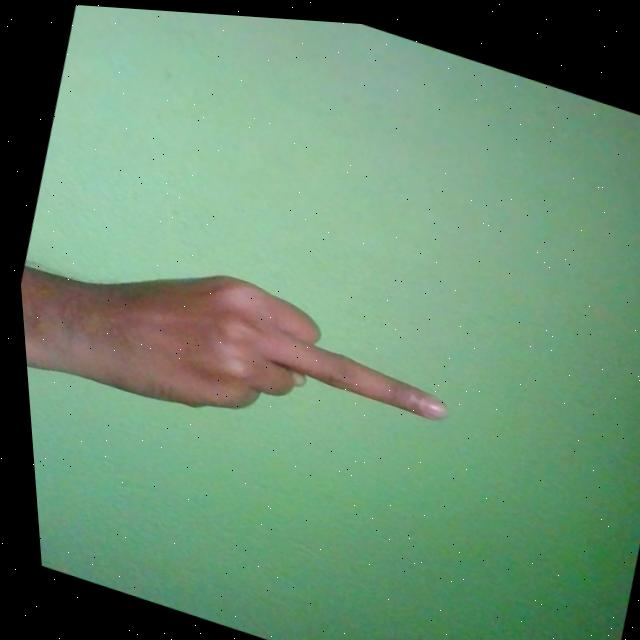Middle Finger: (12, 213, 461, 487)
